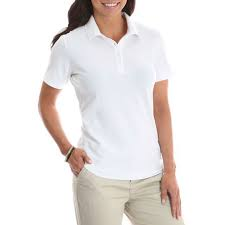S_polo shirt: (45, 25, 174, 177)
